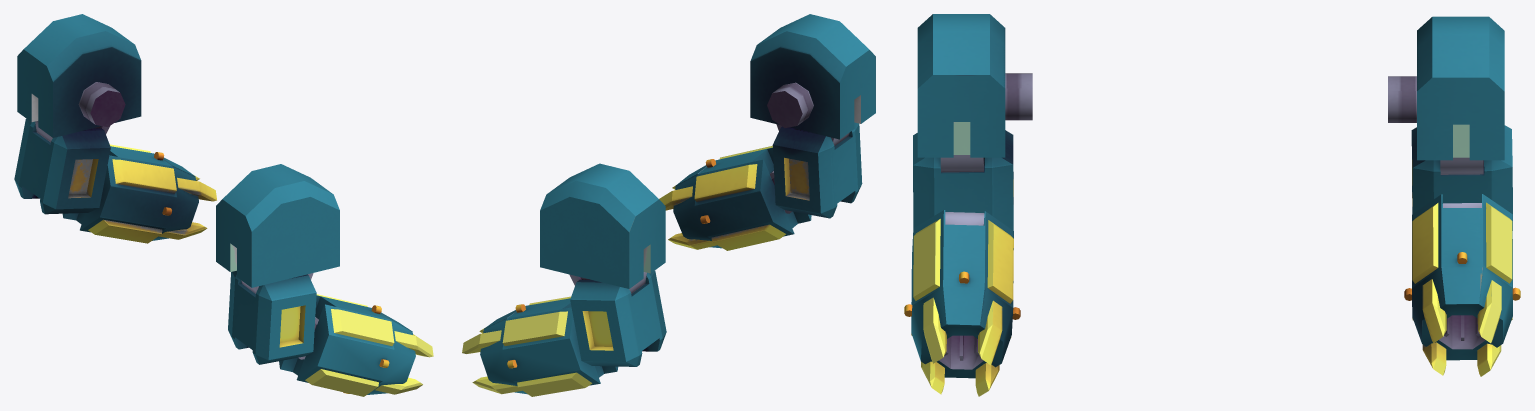
The model's file is Player_Idle14.obj.
The picture shows the model from 3 angles, left to right: view 1: azimuth 30°, elevation 25°; view 2: azimuth 150°, elevation 25°; view 3: azimuth 270°, elevation 25°; orthographic projection. The views are drawn at different scales.
Visible parts, largest first — view 1: Object005, Object003, Object001, Object007, Object006, Object002; view 2: Object003, Object005, Object001, Object007, Object006, Object002; view 3: Object001, Object007, Object005, Object003, Object002, Object006.
Part boxes in pixels (box(x1,y1,x2,y2)): Object005: box(17, 14, 141, 137); Object003: box(216, 164, 339, 287); Object001: box(279, 294, 433, 396); Object007: box(62, 144, 216, 243); Object006: box(14, 119, 110, 214); Object002: box(228, 270, 316, 364); Object003: box(750, 14, 875, 139); Object005: box(540, 163, 665, 288); Object001: box(659, 146, 811, 250); Object007: box(462, 296, 618, 396); Object006: box(569, 270, 666, 366); Object002: box(772, 122, 862, 218); Object001: box(904, 210, 1020, 396); Object007: box(1404, 194, 1520, 376); Object005: box(1388, 16, 1504, 160); Object003: box(917, 14, 1032, 157); Object002: box(913, 130, 1013, 230); Object006: box(1411, 125, 1512, 230).
Size of the model in its own units: 36.79 by 44.41 by 83.7.
Materials: 1 (1 with a texture image).
